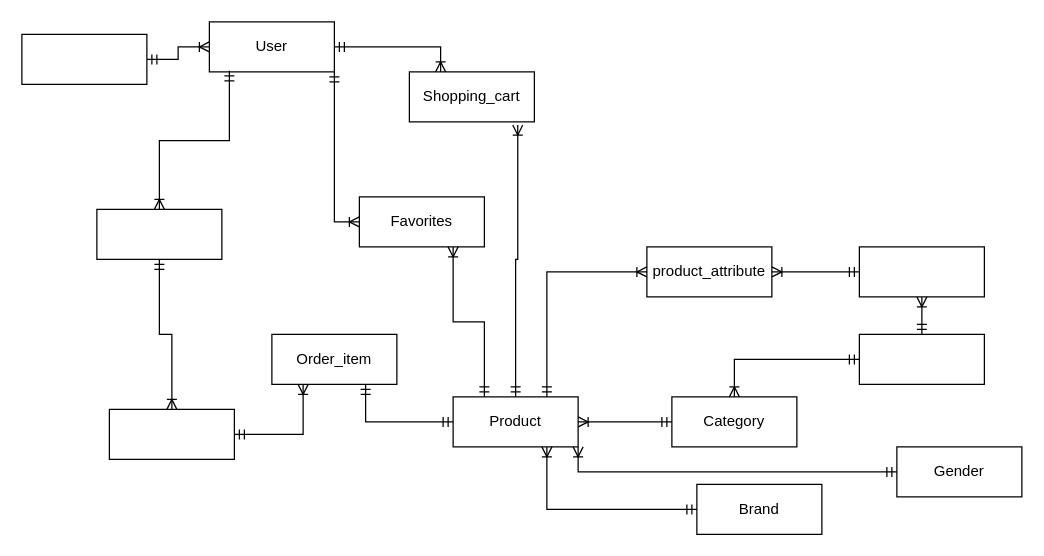
The diagram is 1044 pixels wide and 556 high, and some of its shapes have lost their labels. Here are the shapes that lost their labels. From the top down, the centre of each, then its label:
pixel 84 58: Role
pixel 159 233: Order
pixel 921 271: Attribute
pixel 921 358: Type
pixel 171 433: Order_detail
